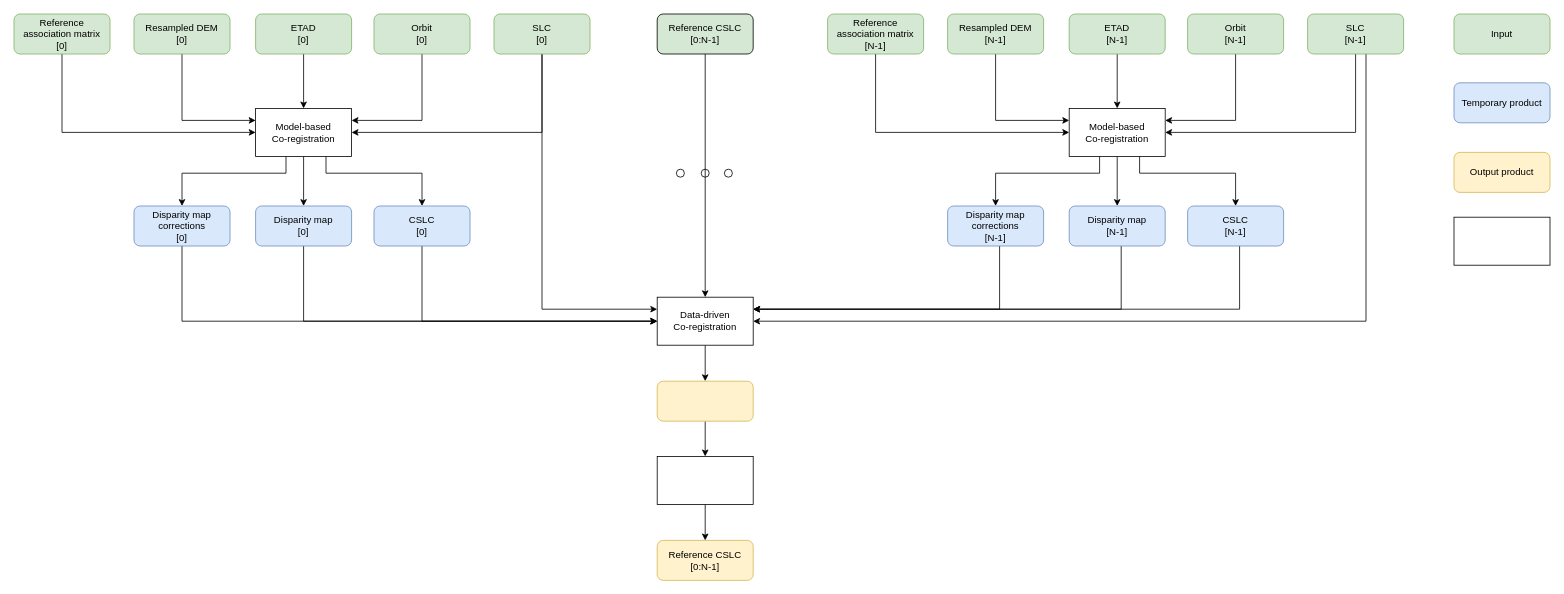
The diagram is 1564 pixels wide and 594 high, and some of its shapes have lost their labels. The centre of each missing label's shape, as x and y in pixels:
"CSLC [0:N-1]" goes at (x=704, y=400).
"Processing block" goes at (x=1501, y=240).
"Reference Update" goes at (x=704, y=480).
